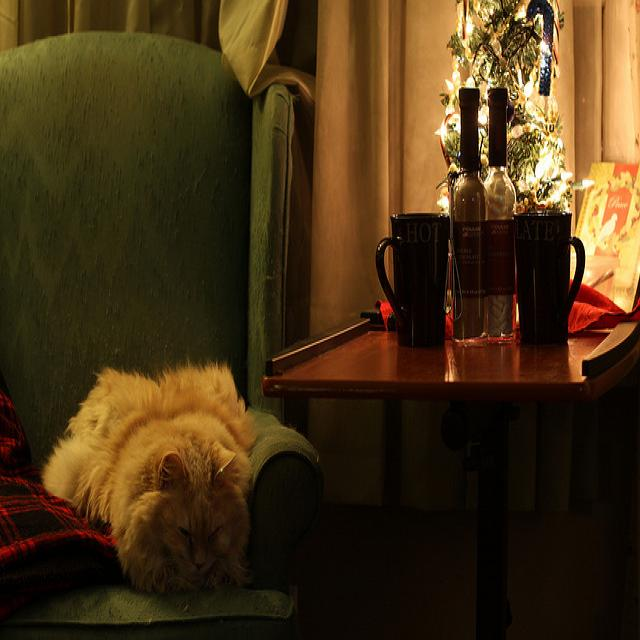Bottle: (487, 74, 534, 352), (449, 84, 497, 347)
Cat: (49, 358, 284, 623)
Cup: (510, 202, 590, 348), (374, 210, 453, 339)
Table: (273, 288, 632, 637)
chair: (0, 60, 311, 640)
